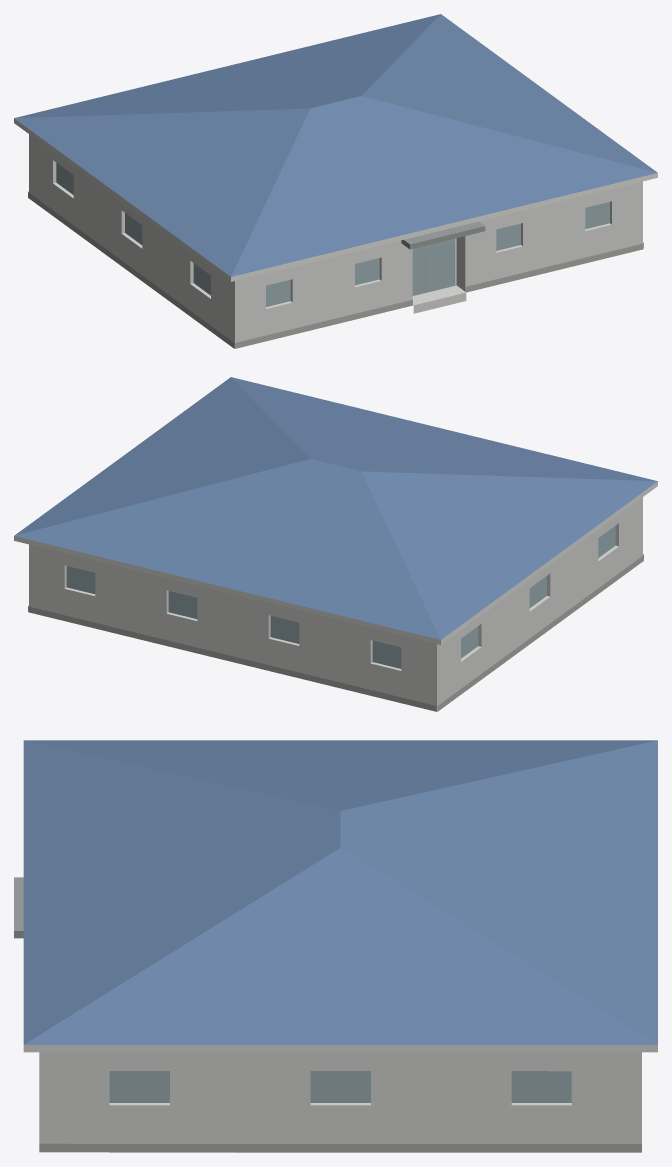
The picture shows the model from 3 angles, top to bottom: view 1: azimuth 30°, elevation 25°; view 2: azimuth 150°, elevation 25°; view 3: azimuth 270°, elevation 25°; orthographic projection. The views are drawn at different scales.
Visible parts, largest first — view 1: b115951761__roofAccent, b115951761__wall, b115951761__glass, b115951761__base, b115951761__trim, b115951761__entranceThreshold_0, b115951761__canopy; view 2: b115951761__roofAccent, b115951761__wall, b115951761__base, b115951761__glass, b115951761__trim; view 3: b115951761__roofAccent, b115951761__wall, b115951761__glass, b115951761__base, b115951761__trim, b115951761__canopy.
Boxes of the visible parts, x1,y1,x2,y2 form: b115951761__roofAccent: [14, 14, 657, 276]; b115951761__wall: [29, 134, 642, 348]; b115951761__glass: [56, 163, 609, 306]; b115951761__base: [28, 191, 643, 348]; b115951761__trim: [14, 118, 657, 281]; b115951761__entranceThreshold_0: [412, 285, 466, 313]; b115951761__canopy: [401, 221, 485, 249]; b115951761__roofAccent: [14, 377, 657, 639]; b115951761__wall: [29, 497, 642, 711]; b115951761__base: [28, 554, 643, 711]; b115951761__glass: [66, 526, 615, 668]; b115951761__trim: [14, 481, 657, 644]; b115951761__roofAccent: [23, 740, 657, 1044]; b115951761__wall: [39, 1052, 641, 1143]; b115951761__glass: [109, 1071, 571, 1102]; b115951761__base: [39, 1143, 641, 1152]; b115951761__trim: [23, 1045, 657, 1052]; b115951761__canopy: [14, 877, 23, 938].
Bounding box in the file's own units: 22.68 × 6.55 × 20.27.
